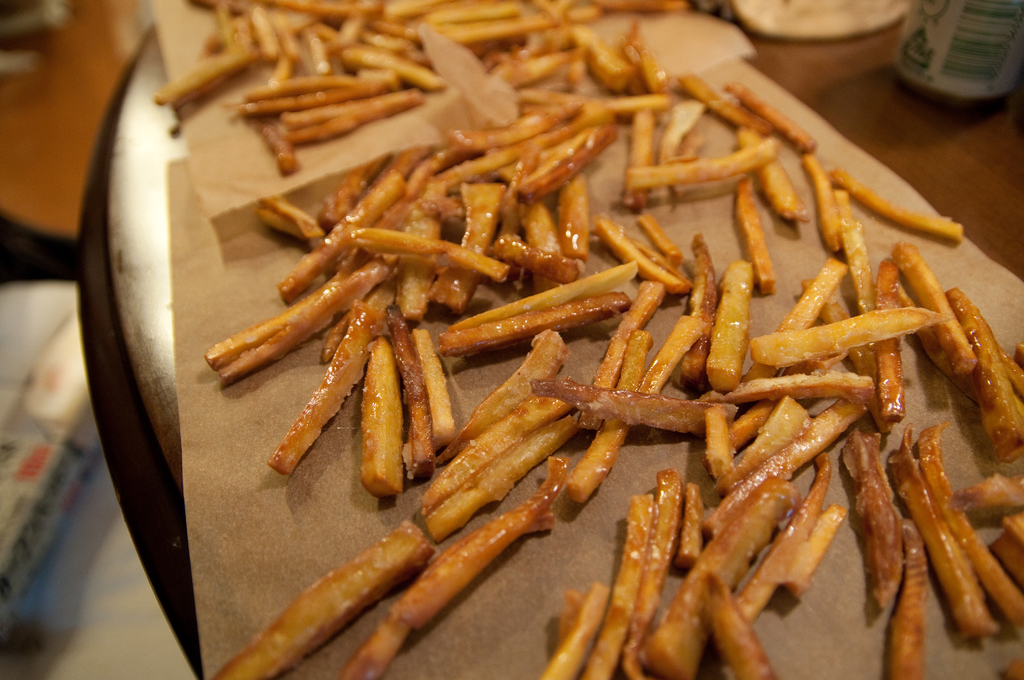French fries: (209, 0, 1023, 679)
